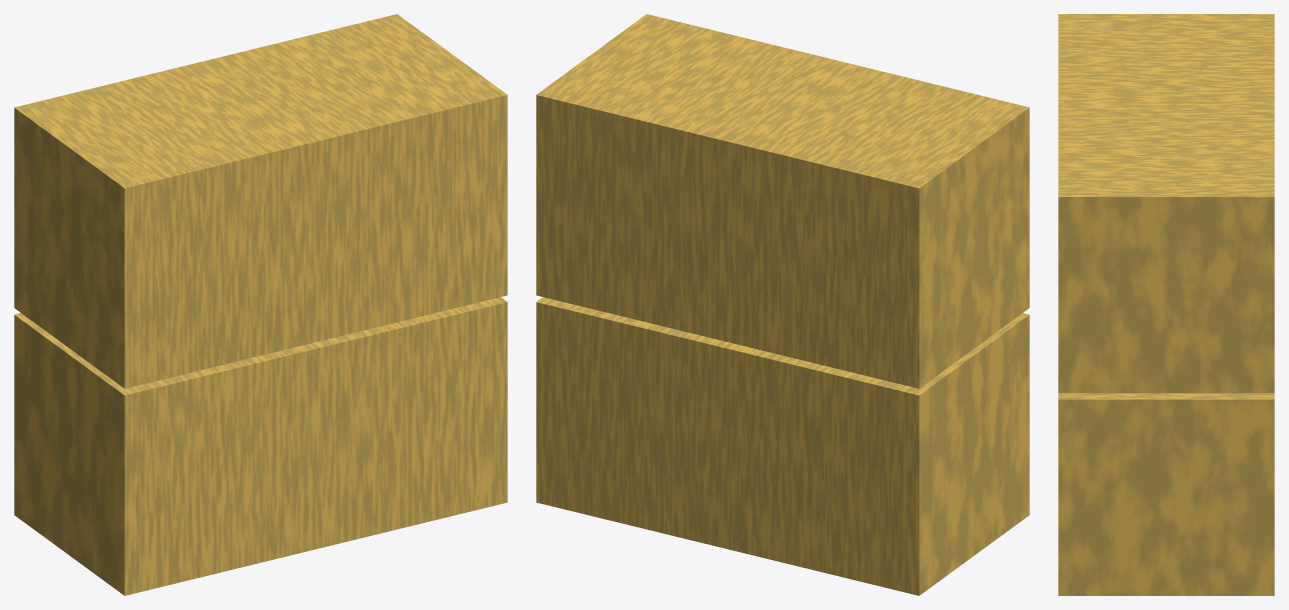
The model's file is hay-bale.glb.
The picture shows the model from 3 angles, left to right: view 1: azimuth 30°, elevation 25°; view 2: azimuth 150°, elevation 25°; view 3: azimuth 270°, elevation 25°; orthographic projection. The views are drawn at different scales.
Parts seen in each view (by area): view 1: hay-bale; view 2: hay-bale; view 3: hay-bale.
Boxes of the visible parts, left/top/right/bottom form: hay-bale: left=14, top=14, right=507, bottom=595; hay-bale: left=536, top=14, right=1029, bottom=595; hay-bale: left=1058, top=14, right=1274, bottom=595.
Bounding box in the file's own units: 1.2 × 1.22 × 0.6.
1 material, 1 textured.
